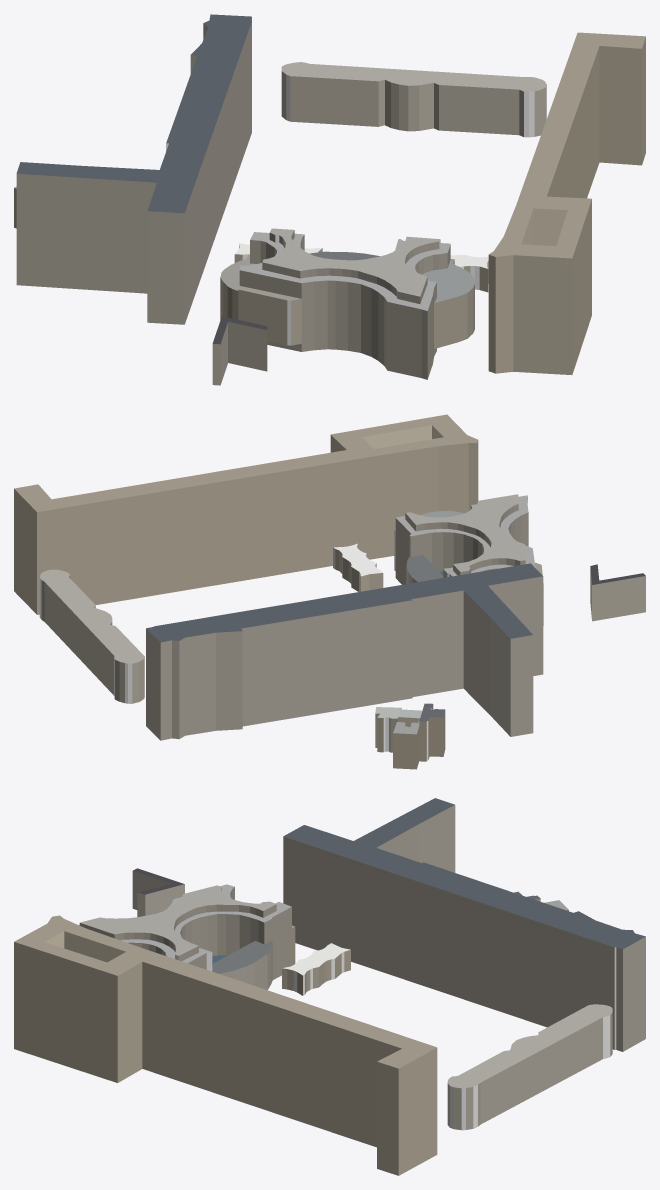
The picture shows the model from 3 angles, top to bottom: view 1: azimuth 30°, elevation 25°; view 2: azimuth 150°, elevation 25°; view 3: azimuth 270°, elevation 25°; orthographic projection. The views are drawn at different scales.
Parts seen in each view (by area): view 1: tuile; view 2: tuile; view 3: tuile.
Part boxes in pixels (x1,y1,x2,y2): tuile: (14, 14, 645, 385); tuile: (14, 414, 645, 769); tuile: (14, 798, 645, 1175).
Size of the model in its own units: 375 by 71.88 by 366.
